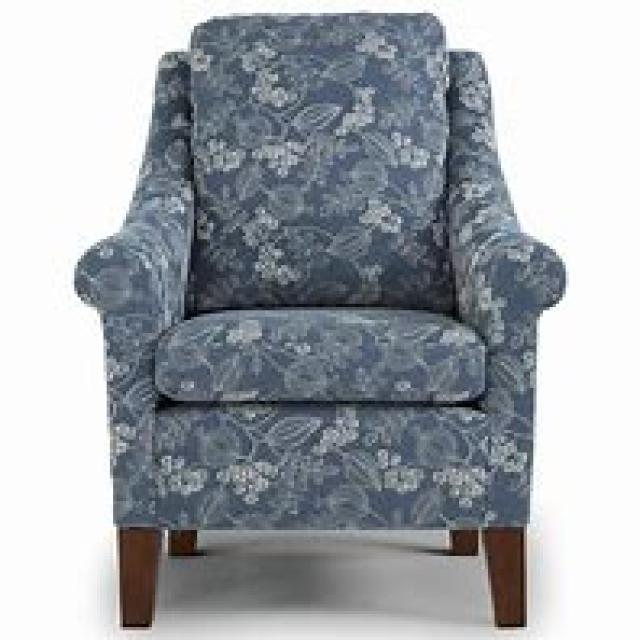chair: (71, 10, 566, 627)
